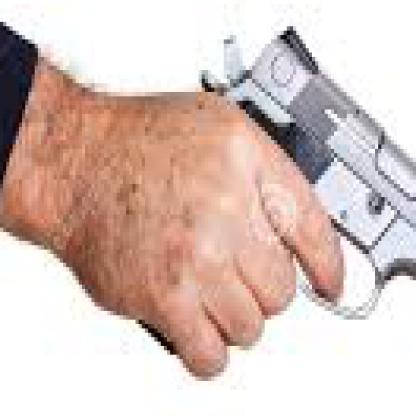gun: (139, 13, 413, 412)
